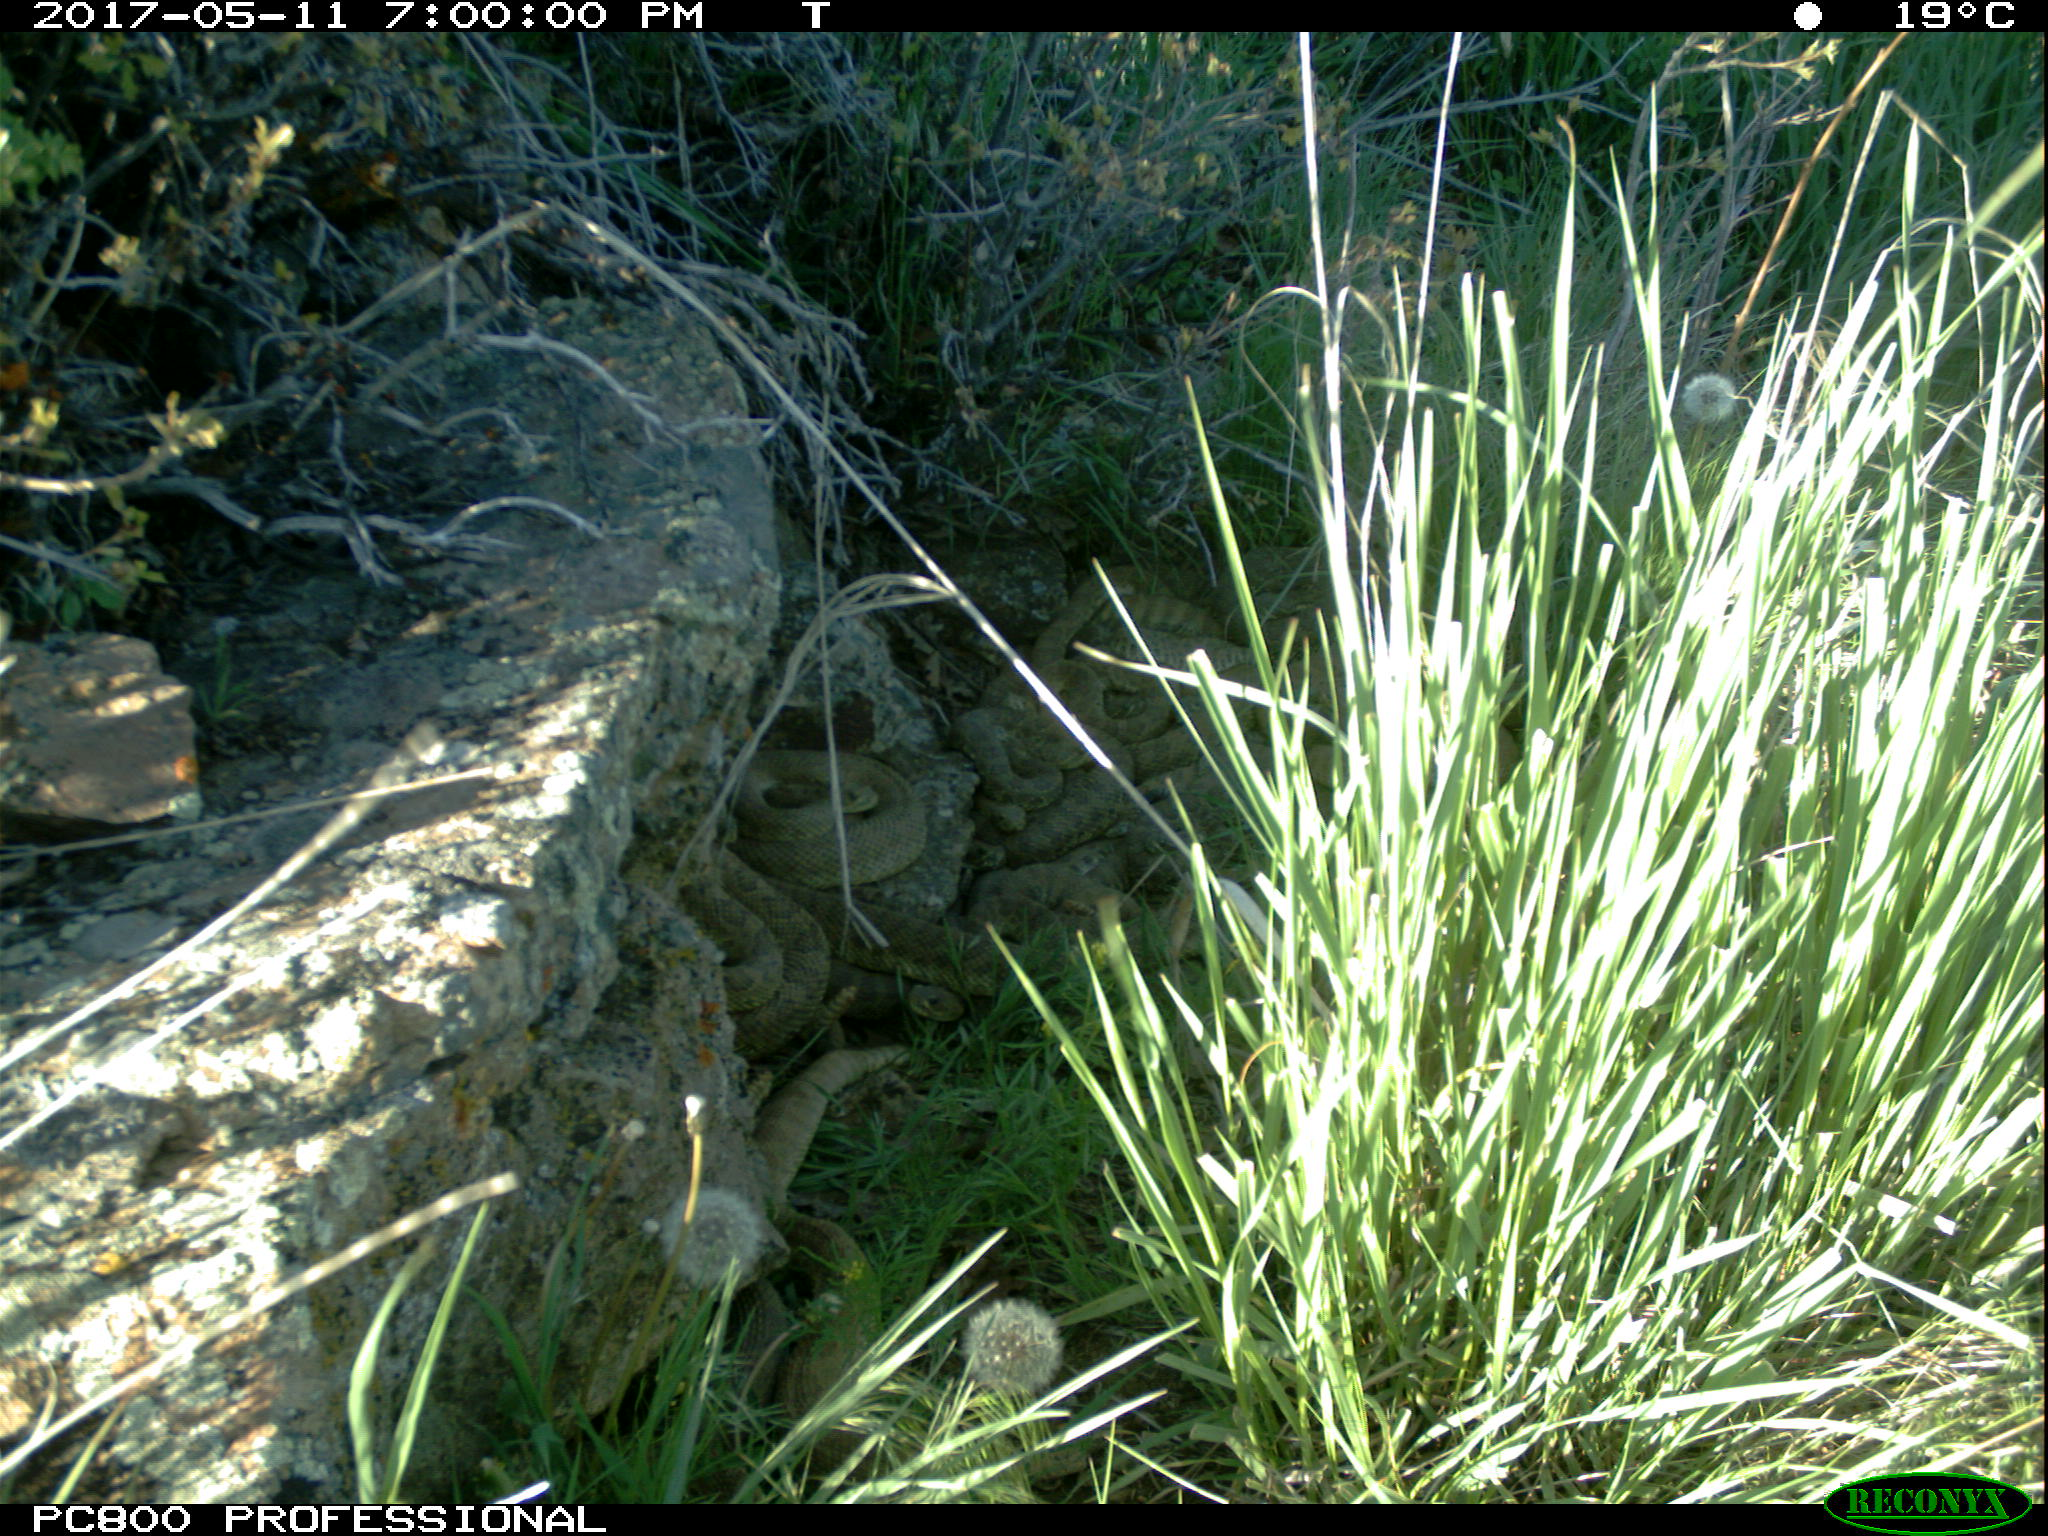snake: (750, 1052, 884, 1413), (1055, 537, 1314, 715), (837, 899, 1208, 1013), (963, 691, 1138, 865), (732, 749, 926, 889), (695, 862, 830, 1050), (995, 721, 1138, 828)
